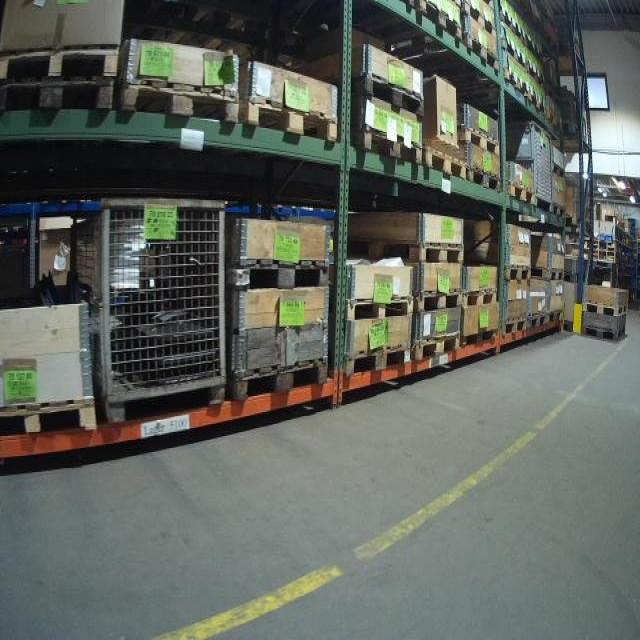pallet: (120, 82, 240, 125), (242, 93, 340, 144), (0, 42, 120, 83), (0, 73, 120, 114), (230, 355, 331, 401), (0, 395, 100, 437), (353, 72, 429, 119), (226, 256, 332, 289), (348, 236, 466, 265), (352, 123, 422, 164), (345, 342, 415, 378), (345, 294, 415, 325), (415, 0, 463, 42), (413, 330, 462, 363), (422, 147, 467, 180), (462, 35, 500, 74), (457, 127, 502, 158), (415, 287, 464, 315), (462, 1, 498, 38), (467, 165, 502, 193), (462, 286, 499, 309), (581, 301, 629, 318), (579, 325, 627, 342), (462, 327, 499, 348), (504, 184, 534, 205), (532, 266, 564, 282), (504, 265, 533, 282), (502, 315, 527, 333), (527, 310, 547, 329), (549, 202, 567, 217), (547, 309, 561, 323)
stillage: (62, 186, 234, 426), (498, 114, 559, 223)
